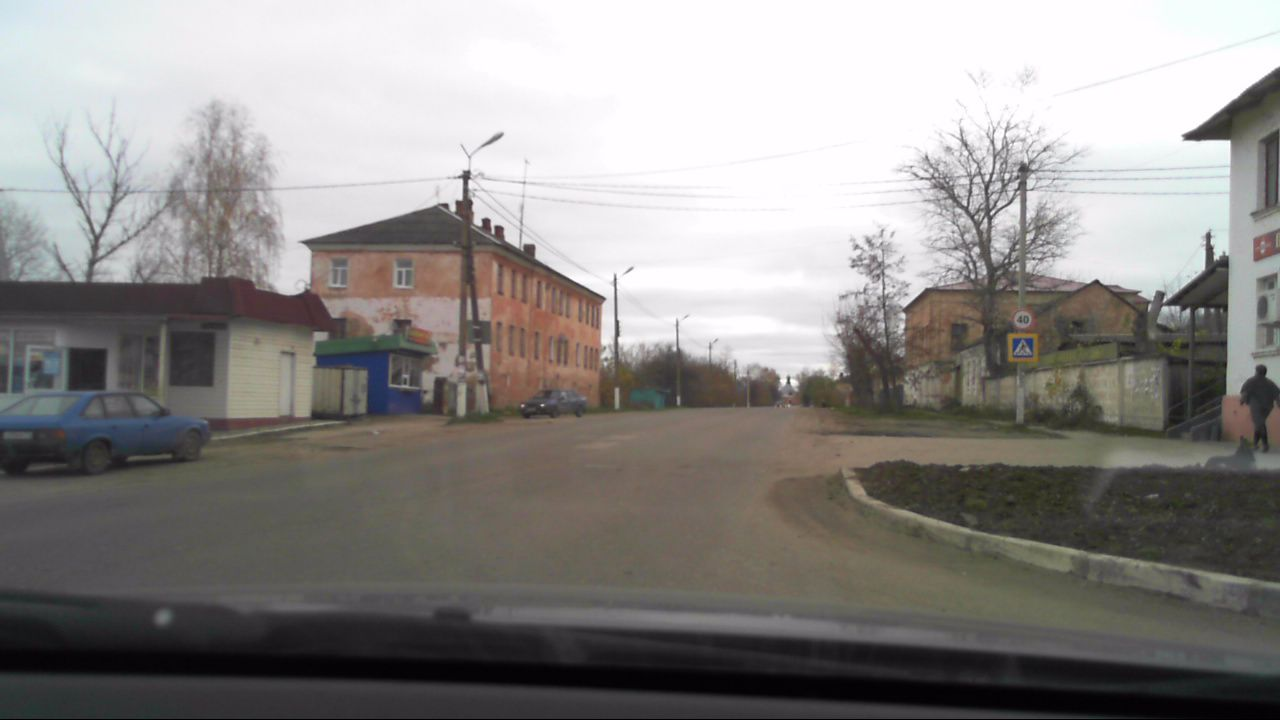speed_warning_40: (1012, 309, 1032, 329)
